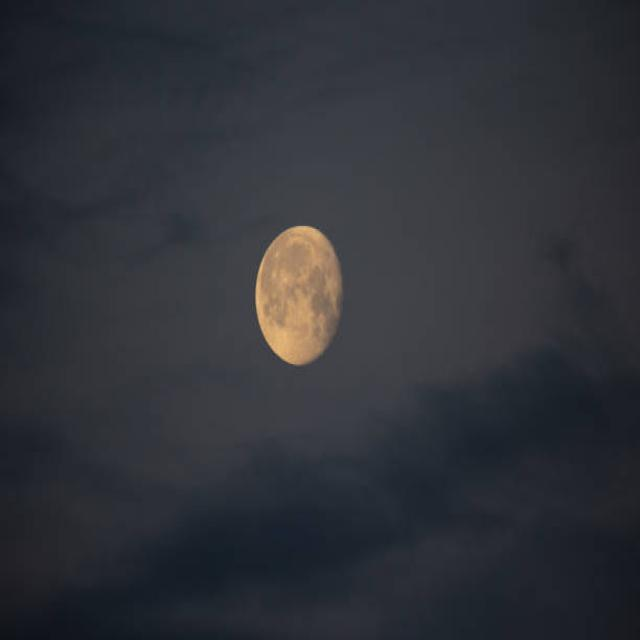moon: (254, 217, 346, 366)
